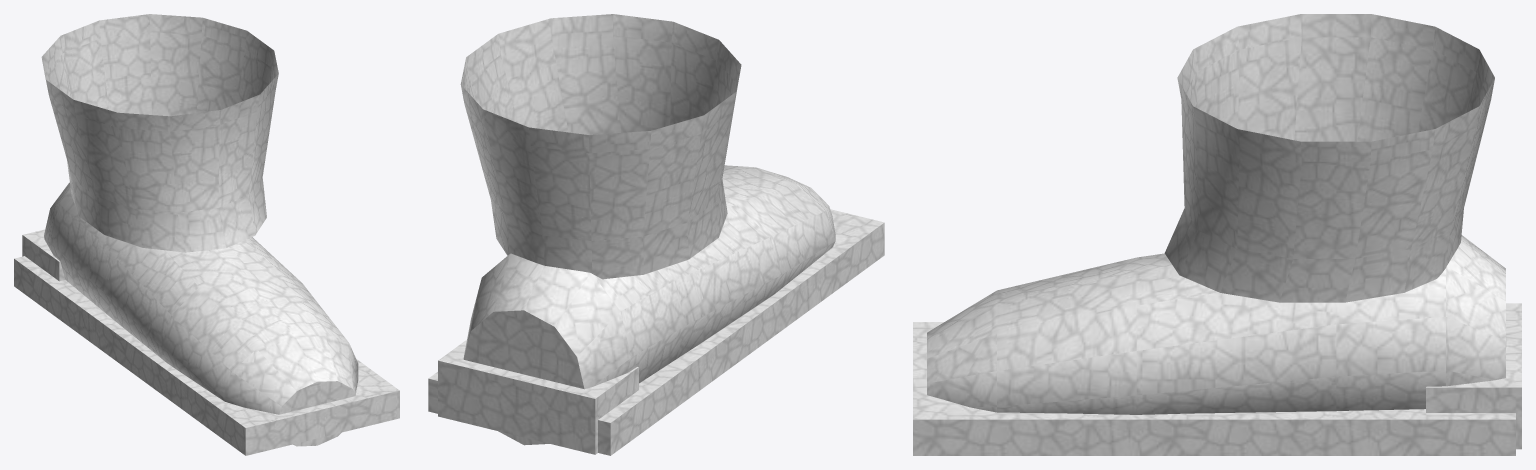
Rendered from shoes_ankle_r.glb.
The picture shows the model from 3 angles, left to right: view 1: azimuth 30°, elevation 25°; view 2: azimuth 150°, elevation 25°; view 3: azimuth 270°, elevation 25°; orthographic projection. The views are drawn at different scales.
Visible parts, largest first — view 1: shoes_ankle_r; view 2: shoes_ankle_r; view 3: shoes_ankle_r.
Boxes of the visible parts, box(x1,y1,x2,y2) form: shoes_ankle_r: box(14, 14, 399, 455); shoes_ankle_r: box(428, 14, 884, 455); shoes_ankle_r: box(913, 14, 1521, 455).
Size of the model in its own units: 0.1513 by 0.191 by 0.305.
1 material, 1 textured.
